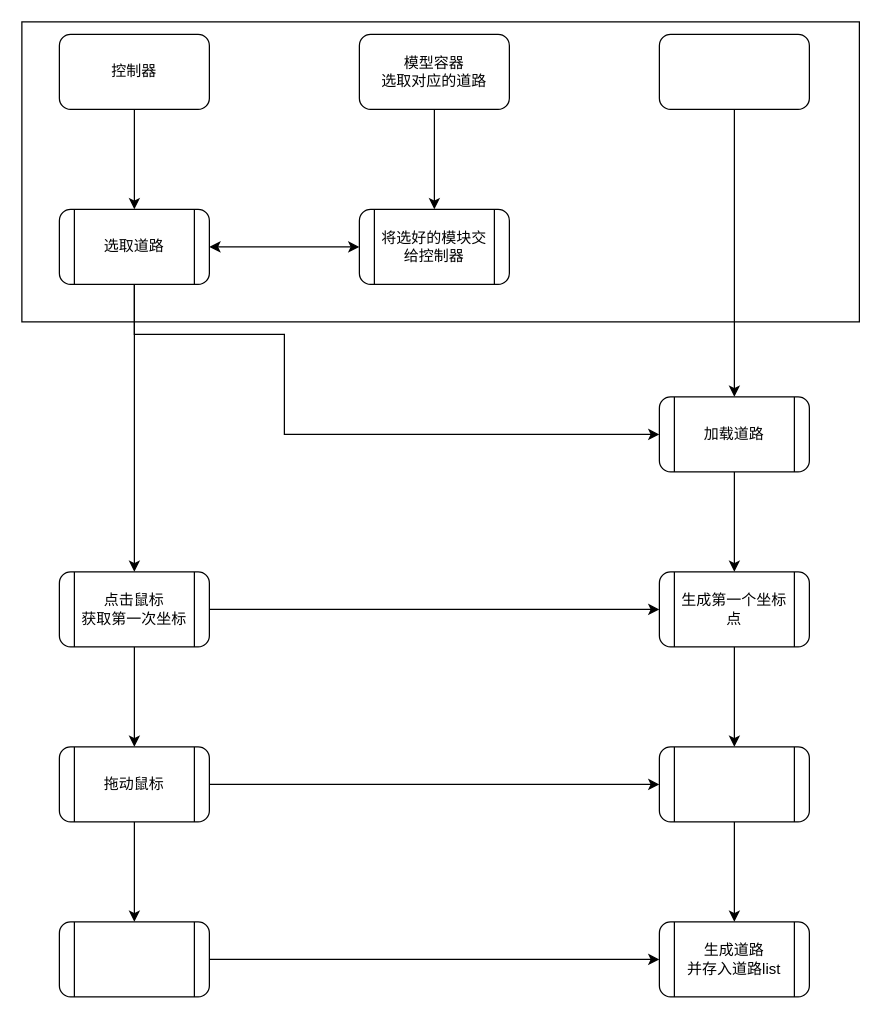
Some shapes in this 881 by 1019 pixel diagram are drawn without their labels. The box of each missing label's shape, as (x1, y1, x2, y2) in pixels:
先不实现这部分: (21, 21, 859, 322)
再次点击鼠标 获取第二次坐标: (58, 921, 209, 997)
根据现在的鼠标坐标 生成预览图: (658, 746, 809, 822)
道路系统: (658, 33, 809, 109)
